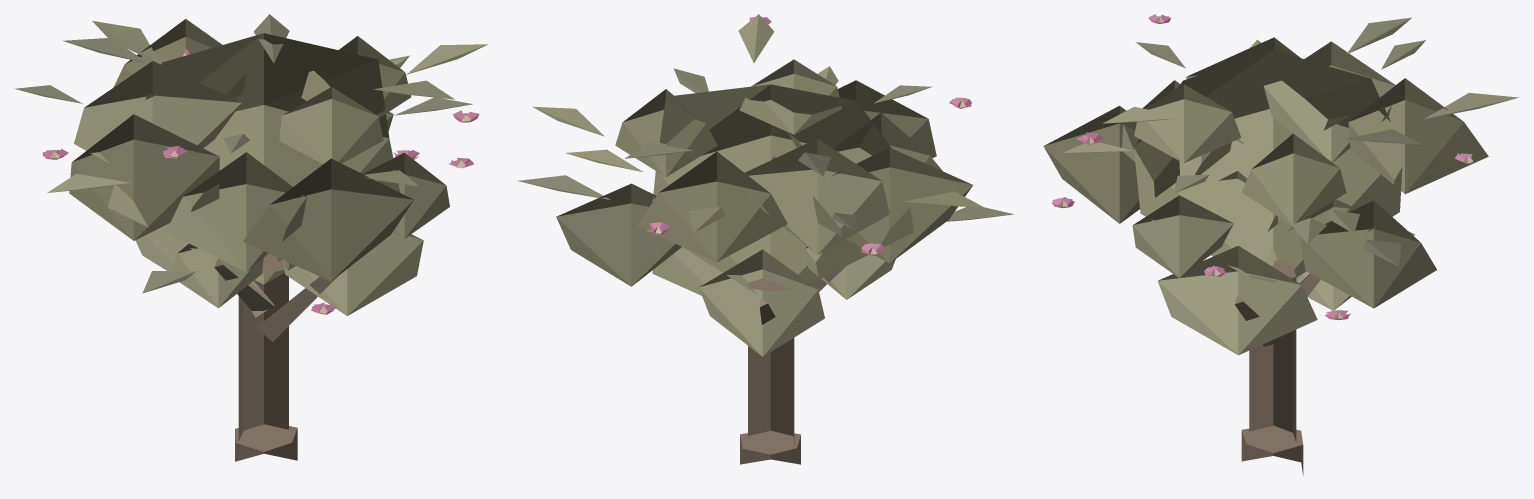
The model's file is shu.gaoshan@flowering__winter.glb.
3 renders of one model, left to right at view 1: azimuth 30°, elevation 25°; view 2: azimuth 150°, elevation 25°; view 3: azimuth 270°, elevation 25°, orthographic. The views are drawn at different scales.
Parts seen in each view (by area): view 1: shu.gaoshan@flowering__winter; view 2: shu.gaoshan@flowering__winter; view 3: shu.gaoshan@flowering__winter.
Boxes of the visible parts, <box> form: shu.gaoshan@flowering__winter: <box>14,14,487,461</box>; shu.gaoshan@flowering__winter: <box>518,14,1013,464</box>; shu.gaoshan@flowering__winter: <box>1043,14,1518,475</box>.
Size of the model in its own units: 15.44 by 13.09 by 14.14.
